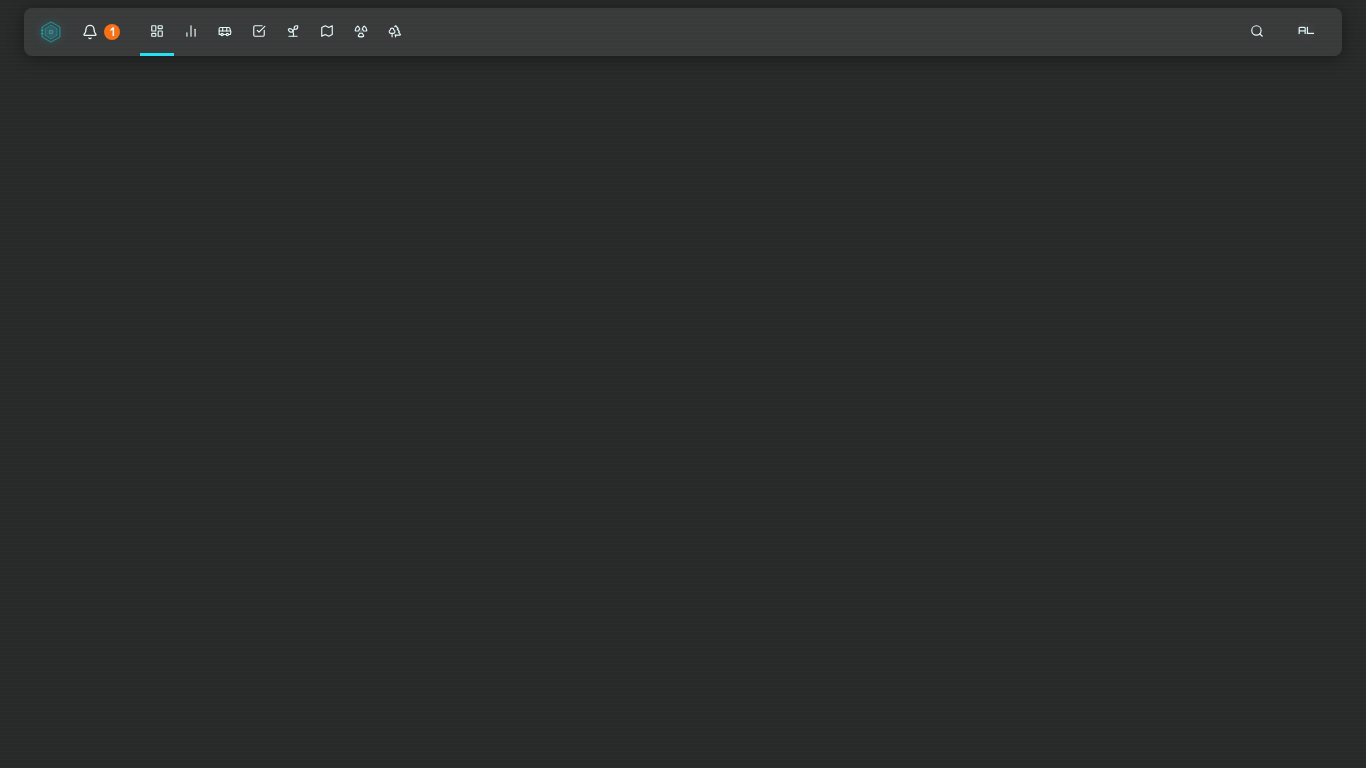
Test case: Navbar – join requests (collaborator view) › opens the requests popover and shows the requester username
Click the button named "1 pending join request" at (101, 32), box [74,8,128,56]
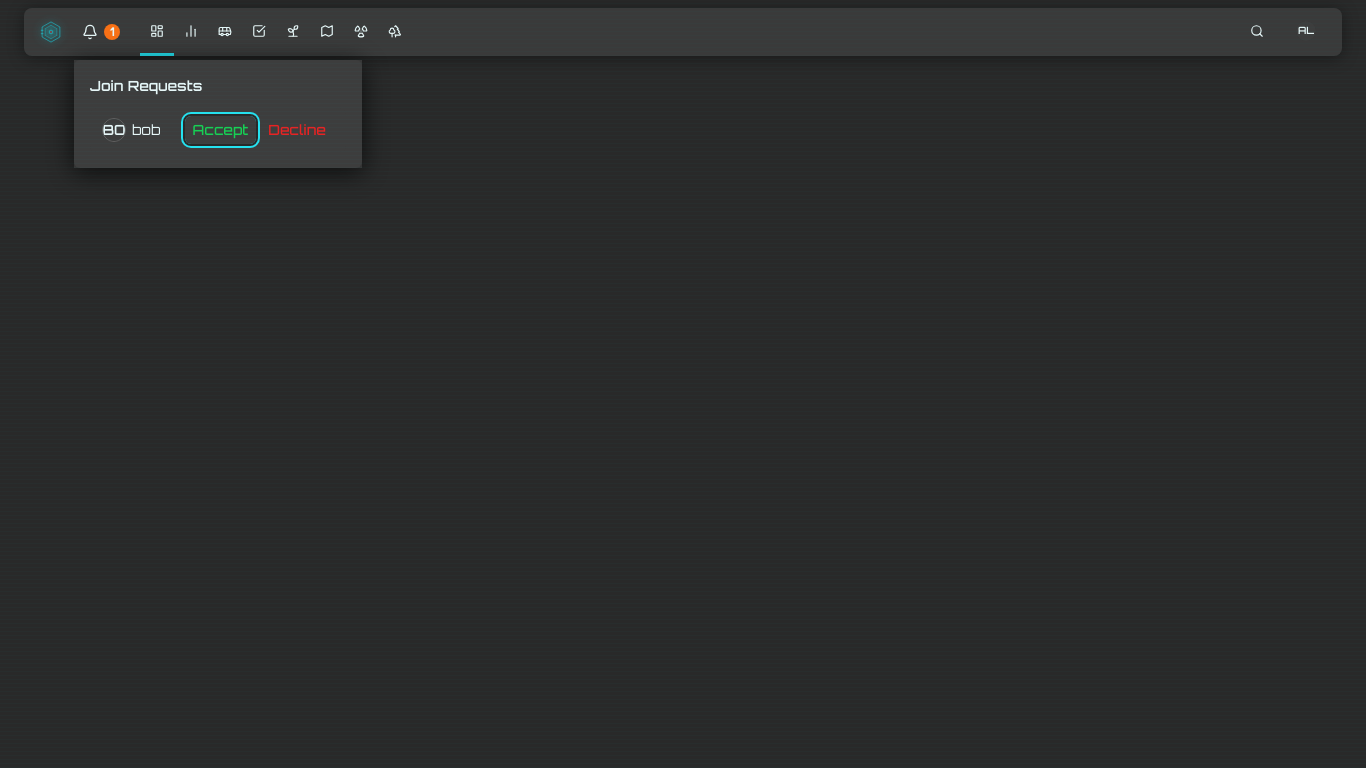
Check: the heading "Join Requests" is shown, box [90,77,202,94]
Check: the text "bob" is shown, box [132,120,160,140]
